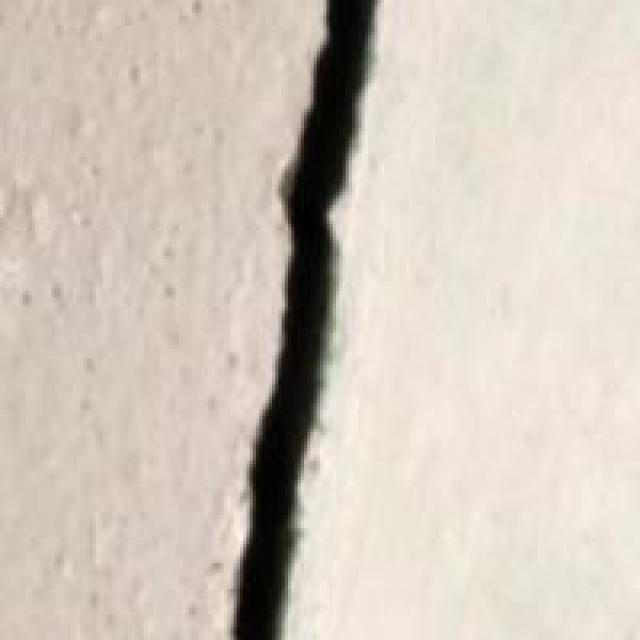Crack: (173, 0, 429, 637)
